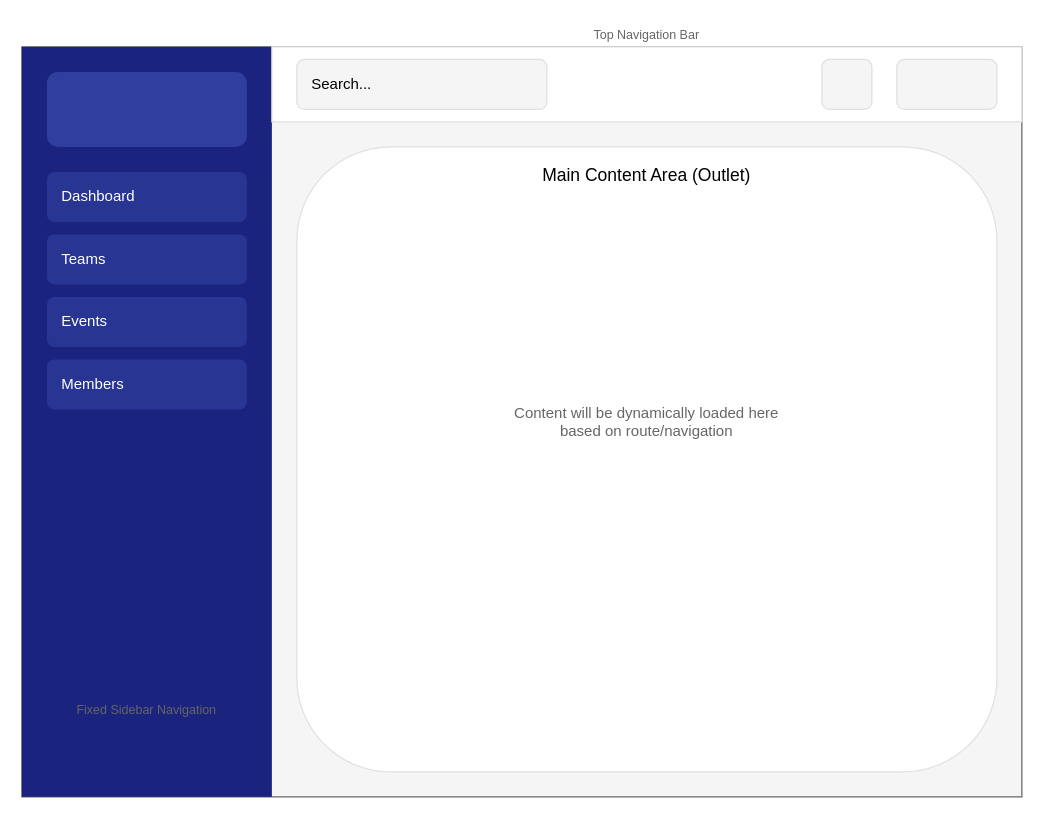
This 1044x819 diagram has some shape labels left out. Each missing label, with the centre of its shape:
Club Connect Logo: pixel 146 108
Notifications: pixel 846 83
Profile: pixel 946 83
